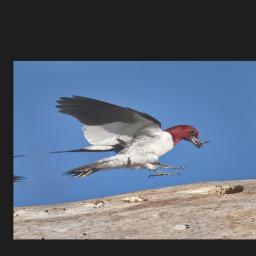Woodpecker: (31, 83, 216, 188)
